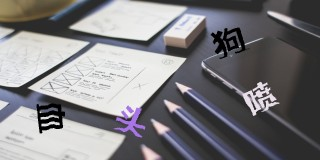喷: (242, 78, 280, 117)
头: (113, 106, 146, 138)
狗: (211, 26, 248, 60)
血: (36, 101, 66, 133)
